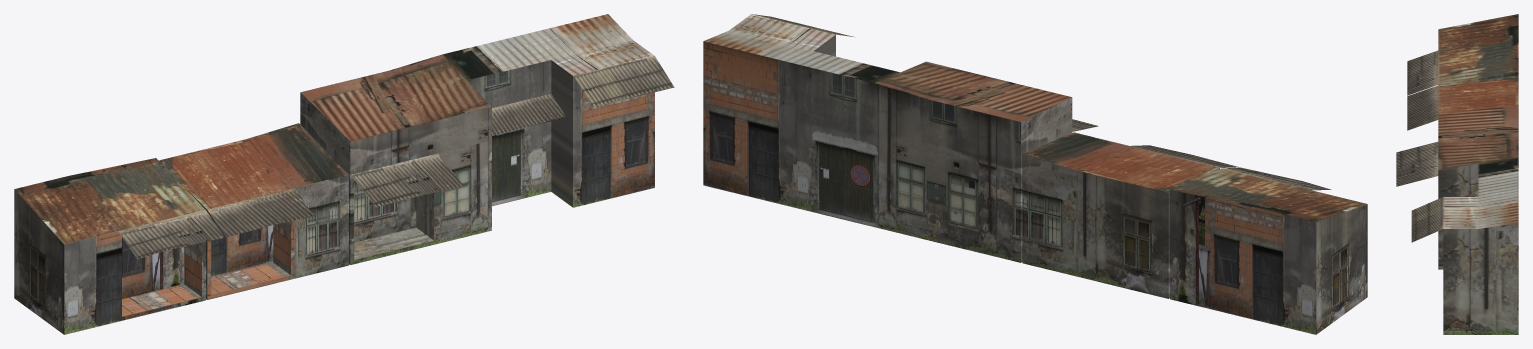
The model's file is building3.fbx.
The picture shows the model from 3 angles, left to right: view 1: azimuth 30°, elevation 25°; view 2: azimuth 150°, elevation 25°; view 3: azimuth 270°, elevation 25°; orthographic projection. The views are drawn at different scales.
Visible parts, largest first — view 1: Cube; view 2: Cube; view 3: Cube.
Part boxes in pixels (x1,y1,x2,y2): Cube: (14,14,674,334); Cube: (703,14,1367,334); Cube: (1396,14,1518,334).
Bounding box in the file's own units: 304 × 68.21 × 67.23.
Materials: 1 (1 with a texture image).
